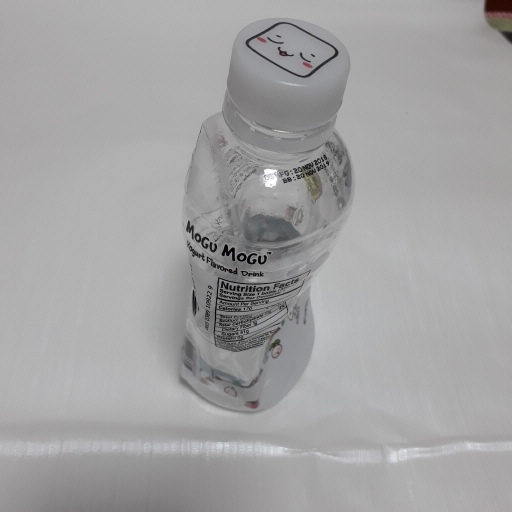Plastic_0: (170, 17, 357, 417)
